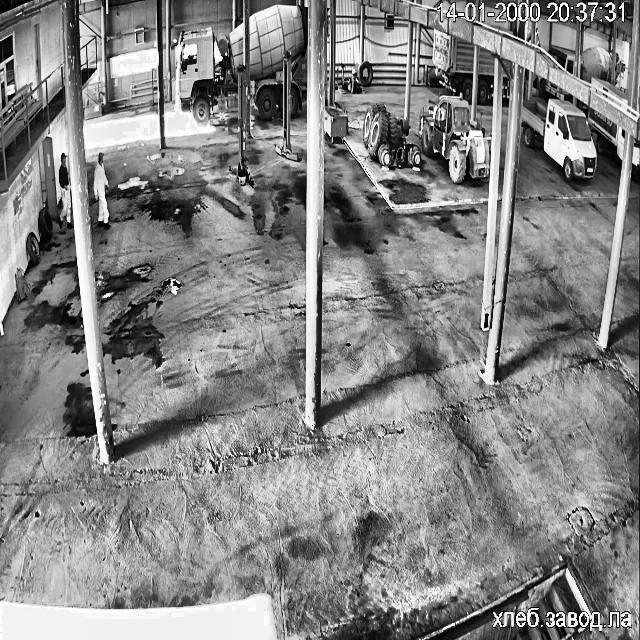class4: (93, 151, 108, 228), (58, 153, 71, 228)
class6: (420, 96, 489, 182), (362, 105, 420, 165)
class7: (248, 4, 308, 117), (176, 26, 244, 124), (521, 99, 596, 180), (432, 28, 472, 101), (588, 108, 624, 158), (580, 46, 610, 81), (476, 49, 494, 102), (592, 78, 628, 102), (536, 77, 571, 99), (548, 46, 574, 73), (632, 140, 640, 179), (500, 78, 508, 97), (616, 53, 622, 76), (504, 60, 510, 76)
tractor: (16, 268, 24, 300)
truck: (229, 66, 253, 186), (275, 52, 300, 161)
